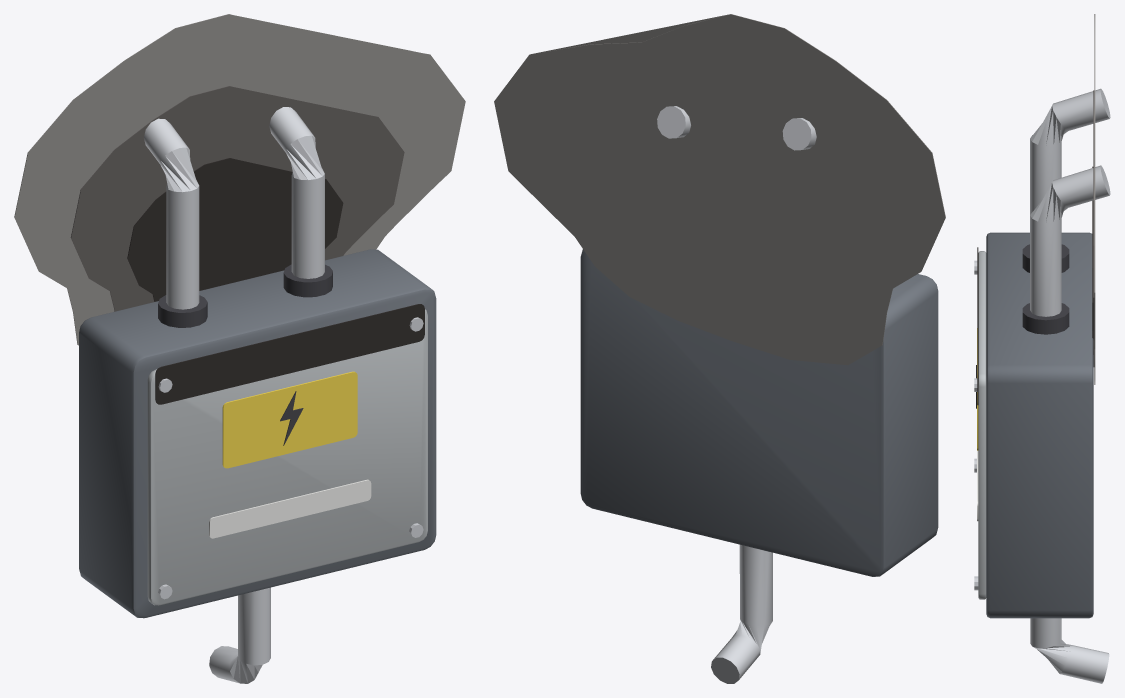
The model's file is SM_IncFireBox.fbx.
3 renders of one model, left to right at view 1: azimuth 30°, elevation 25°; view 2: azimuth 150°, elevation 25°; view 3: azimuth 270°, elevation 25°, orthographic. The views are drawn at different scales.
Parts seen in each view (by area): view 1: FireBox, Soot; view 2: Soot, FireBox; view 3: FireBox, Soot.
Part boxes in pixels (<box>): FireBox: <box>79,107,436,683</box>; Soot: <box>14,14,465,404</box>; Soot: <box>494,14,945,365</box>; FireBox: <box>580,106,938,683</box>; FireBox: <box>974,88,1110,683</box>; Soot: <box>977,14,1095,405</box>.
Size of the model in its own units: 0.5032 by 0.7105 by 0.1371.
